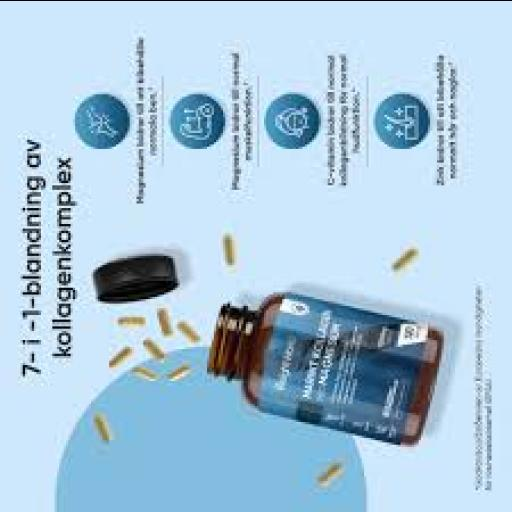blue-bottle: (209, 294, 439, 444)
